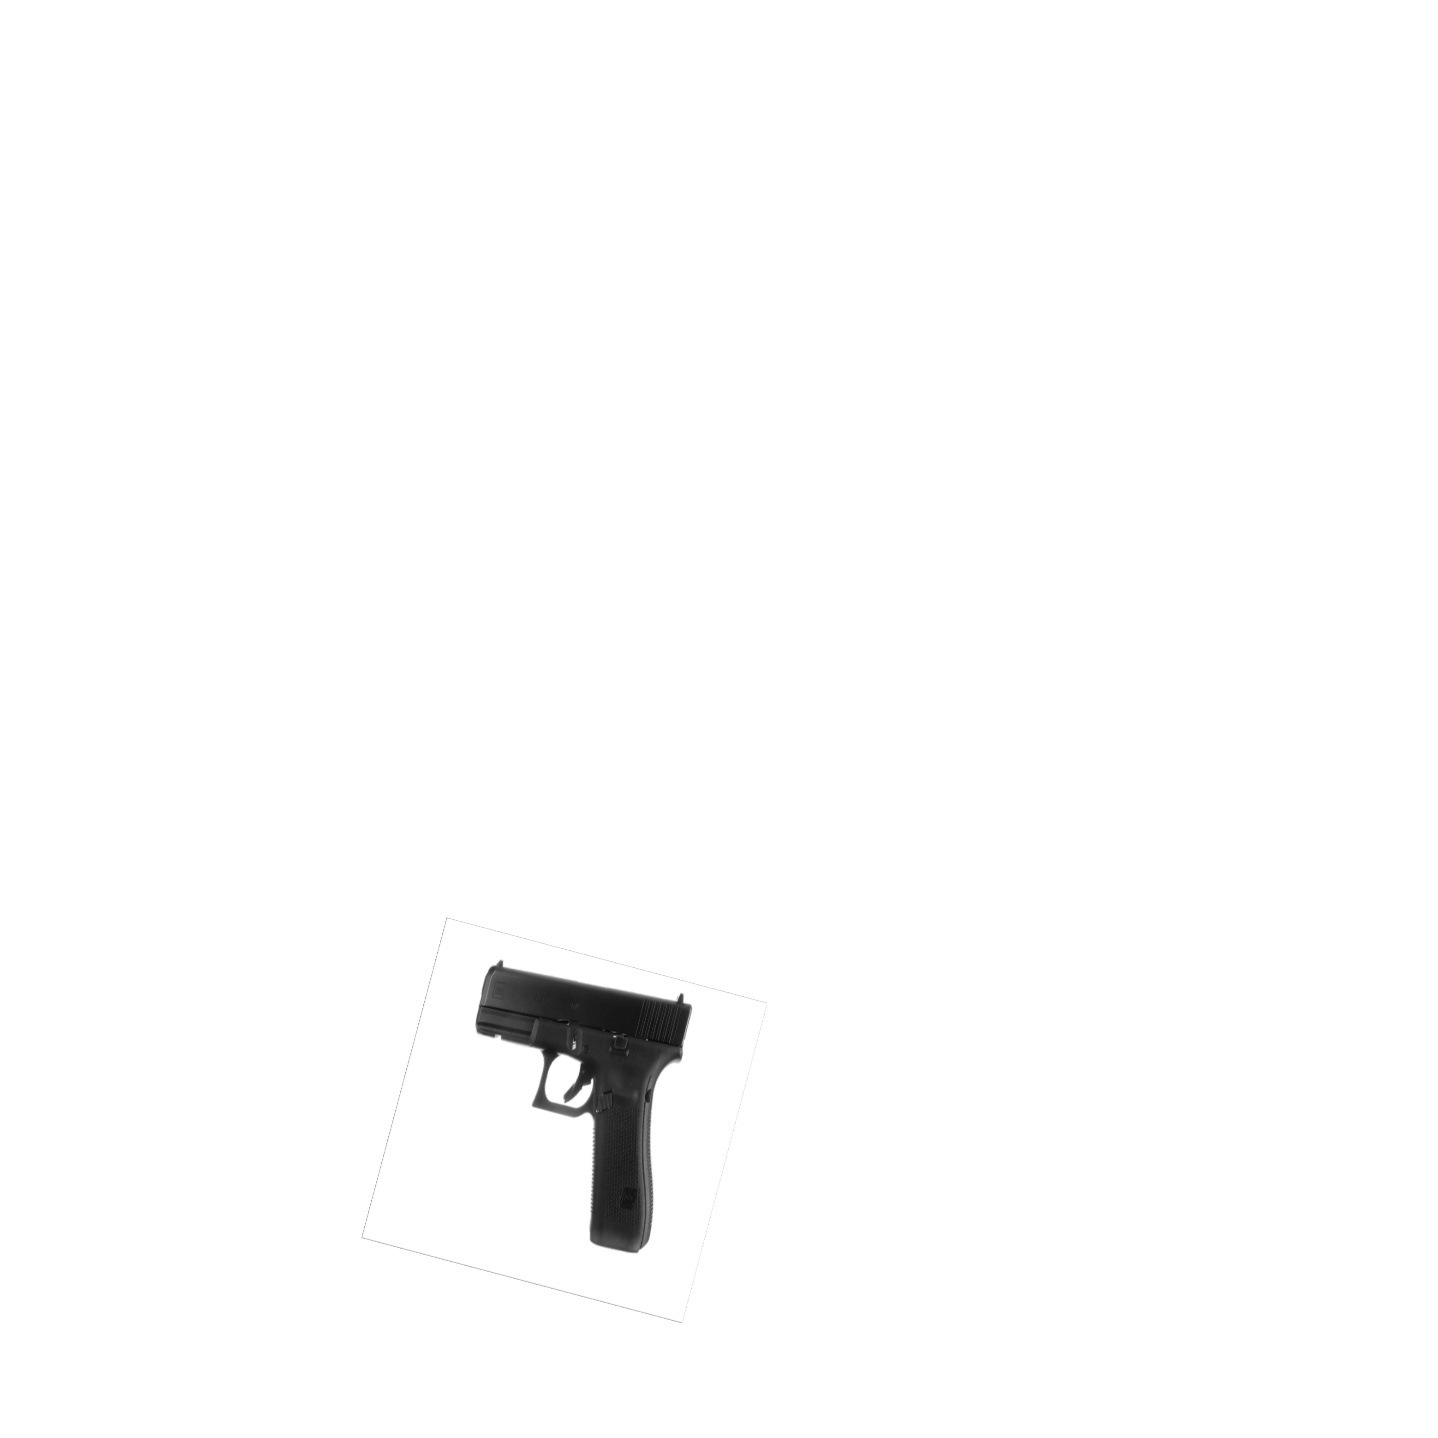gun: (470, 951, 699, 1271)
